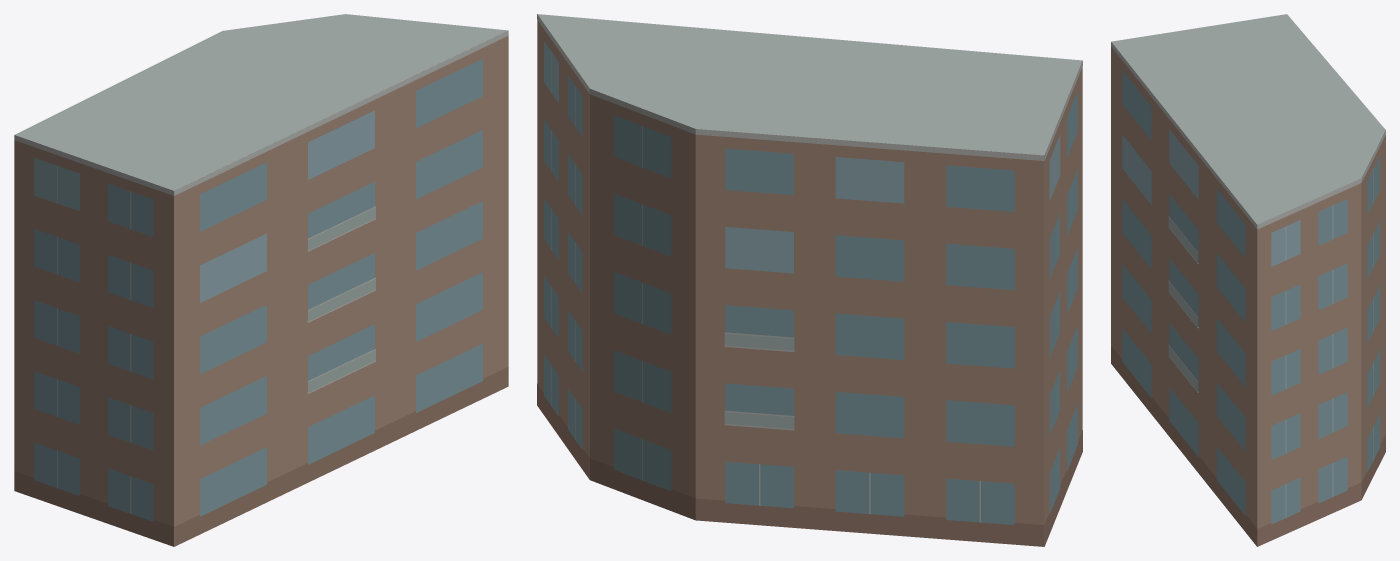
Rendered from survey-upis-32865950.glb.
3 renders of one model, left to right at view 1: azimuth 30°, elevation 25°; view 2: azimuth 150°, elevation 25°; view 3: azimuth 270°, elevation 25°, orthographic. The views are drawn at different scales.
Visible parts, largest first — view 1: survey-upis-32865950.tmp; view 2: survey-upis-32865950.tmp; view 3: survey-upis-32865950.tmp.
Boxes of the visible parts, x1,y1,x2,y2 form: survey-upis-32865950.tmp: (14, 14, 508, 546); survey-upis-32865950.tmp: (537, 14, 1082, 546); survey-upis-32865950.tmp: (1111, 14, 1385, 546).
Size of the model in its own units: 23.75 by 16.9 by 13.08.
